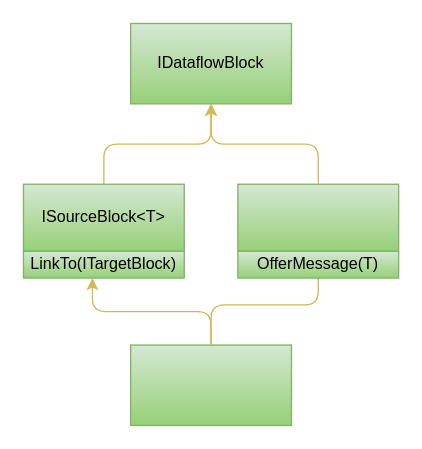
Some shapes in this 422 by 449 pixel diagram are drawn without their labels. Here are the shapes that lost their labels. From the top down, the centre of each, then its label:
At (x=318, y=217): "ITargetBlock<T>".
At (x=210, y=384): "IPropagatorBlock<T>".
